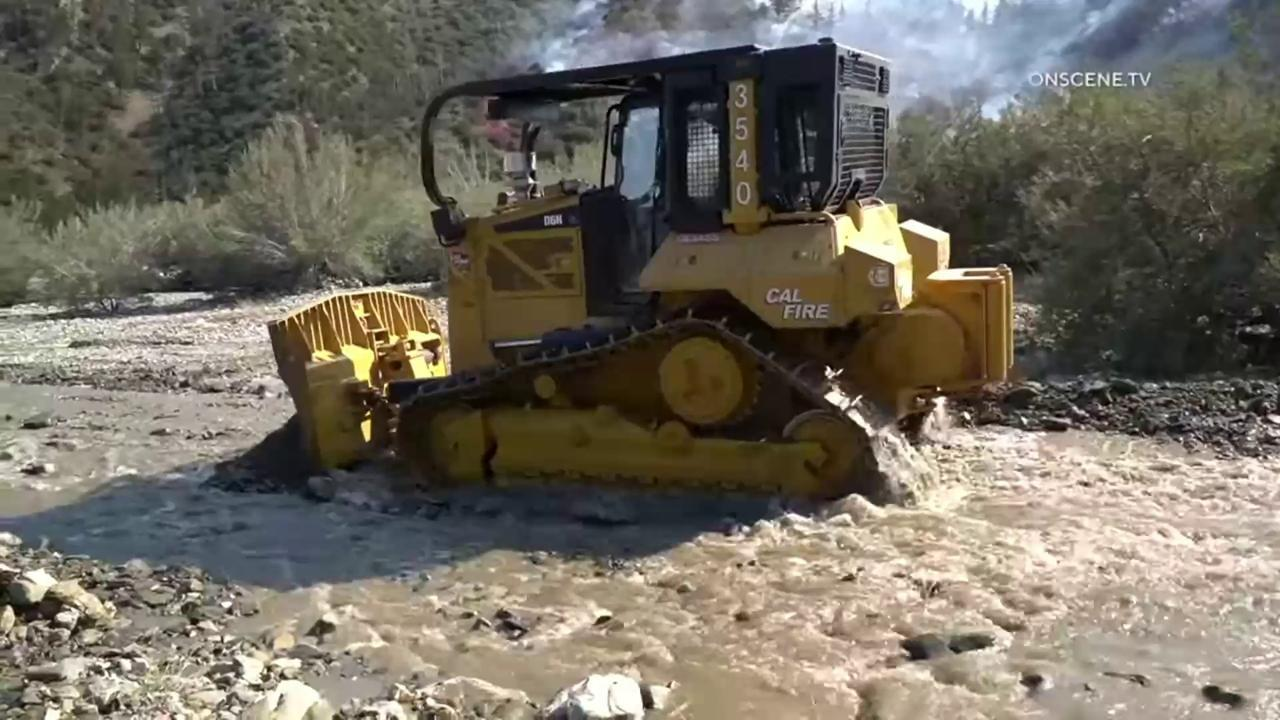smoke: (503, 0, 1238, 128)
